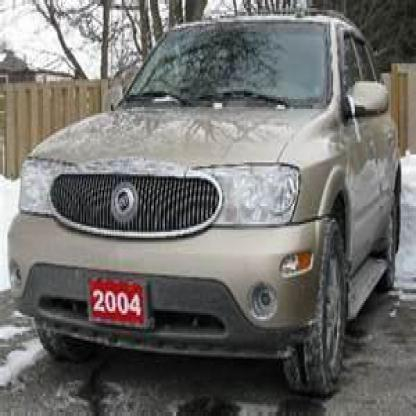Vehicle: (10, 12, 405, 400)
